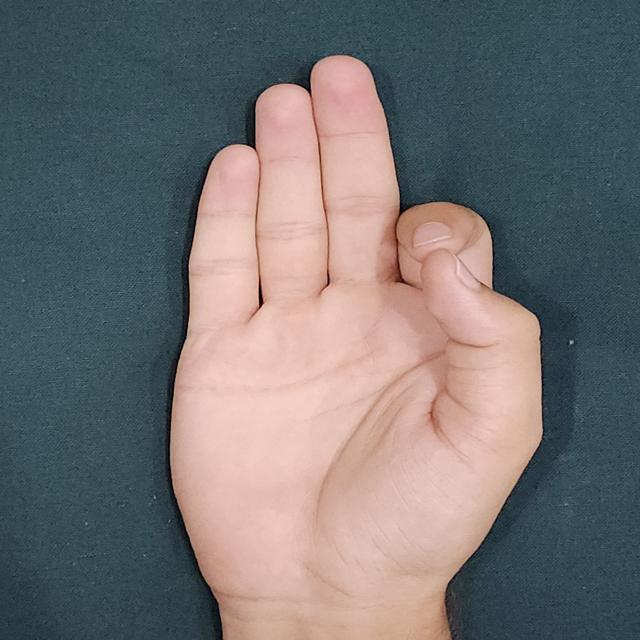ث: (141, 41, 552, 617)
